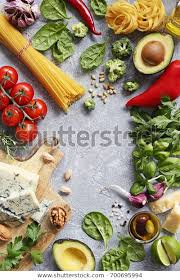Onion: (120, 187, 146, 208)
Tomato: (1, 85, 39, 137)
